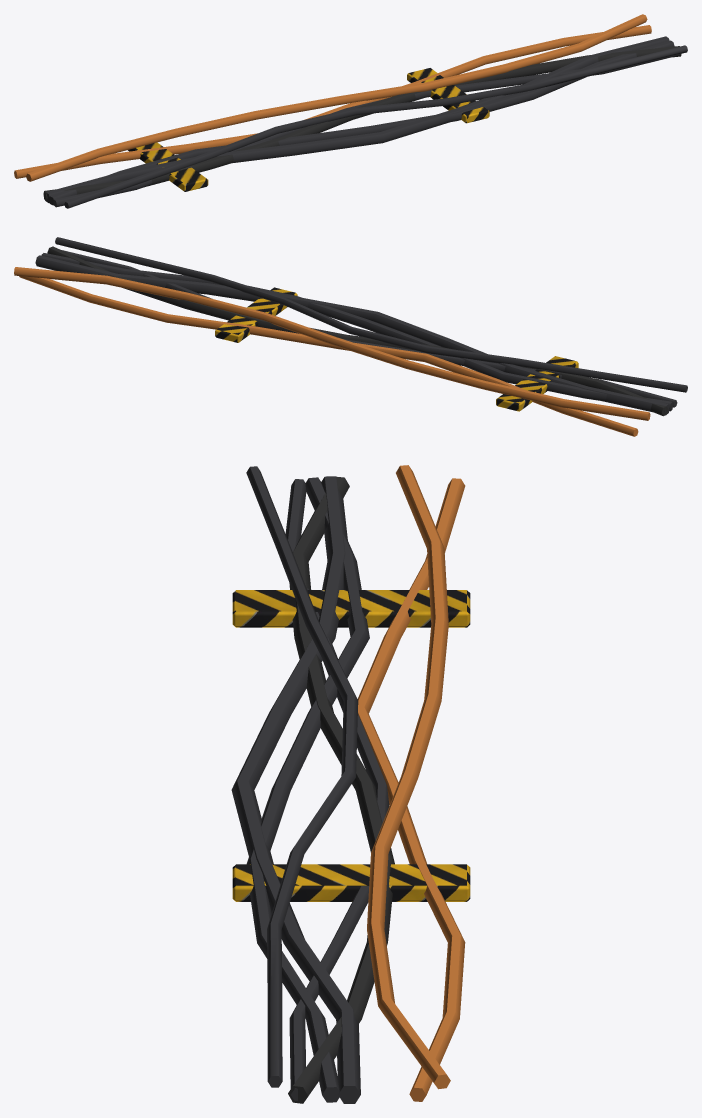
The model's file is cable_bundle.glb.
3 views of the same model, one above another, from view 1: azimuth 30°, elevation 25°; view 2: azimuth 150°, elevation 25°; view 3: azimuth 270°, elevation 25° (orthographic). The views are drawn at different scales.
Visible parts, largest first — view 1: cable_bundle; view 2: cable_bundle; view 3: cable_bundle.
Part boxes in pixels (x1,y1,x2,y2): cable_bundle: (14,14,687,208); cable_bundle: (14,237,687,436); cable_bundle: (231,465,470,1103).
Size of the model in its own units: 4.01 by 0.0911 by 0.6628.
4 materials, 1 textured.
